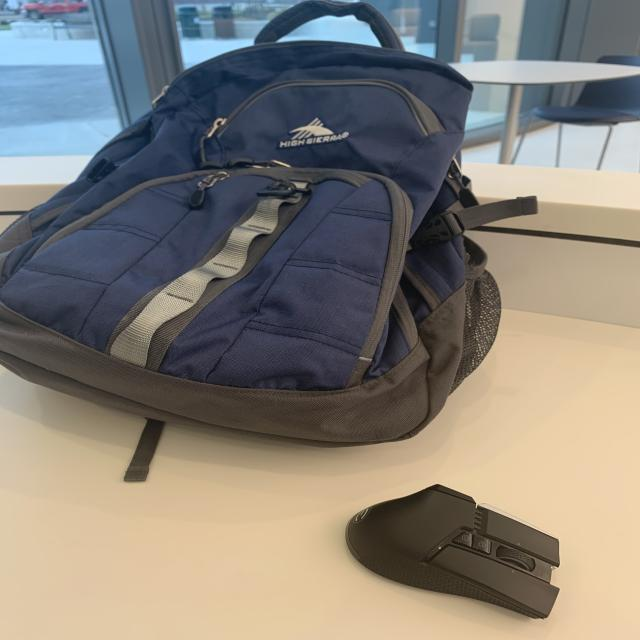Mouse: (332, 473, 572, 626)
